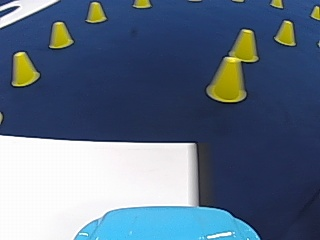cone: (207, 55, 247, 102), (10, 50, 40, 86), (229, 28, 259, 62), (48, 20, 73, 49), (274, 20, 296, 45), (85, 1, 106, 23), (134, 0, 150, 8), (309, 5, 318, 19), (271, 0, 282, 8)
